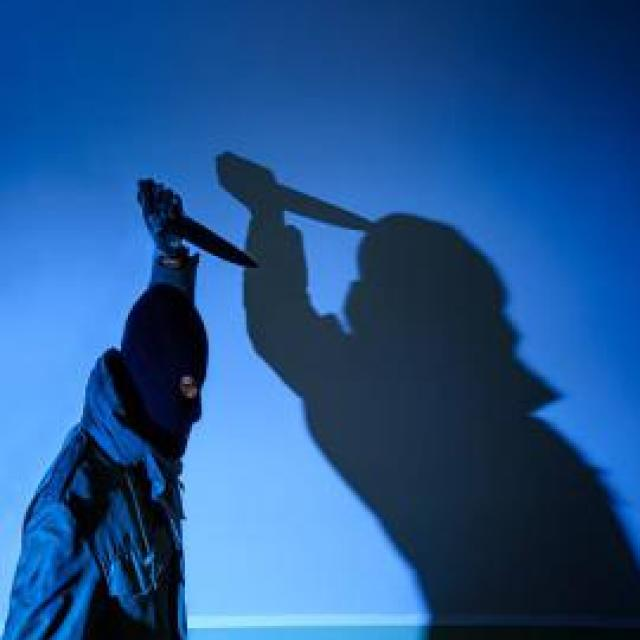knife: (216, 147, 374, 235), (133, 178, 256, 272)
